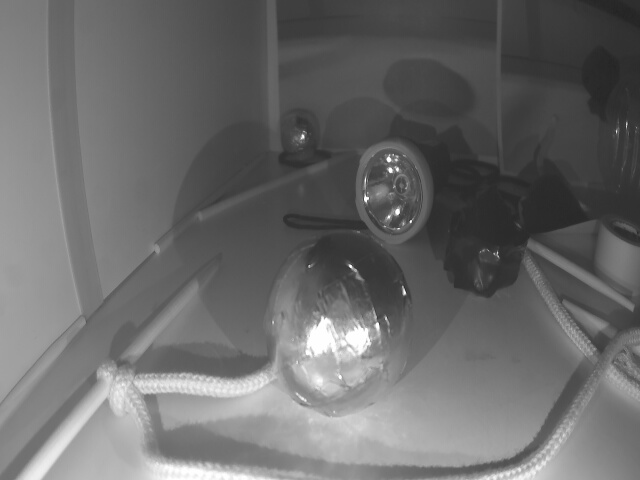Dead: (444, 200, 526, 296)
Live: (264, 227, 412, 418), (274, 105, 320, 163)
